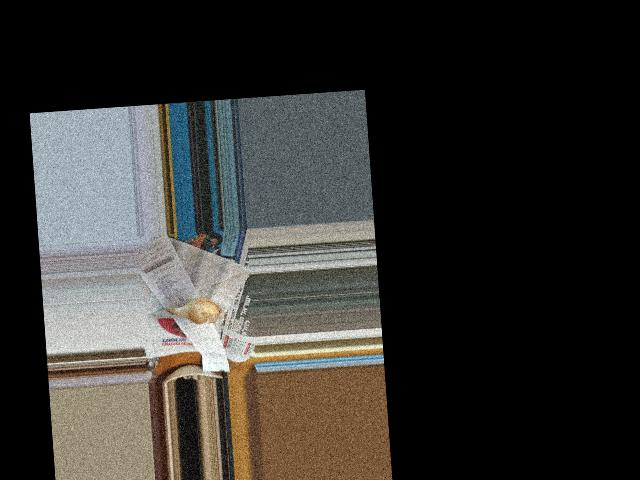onion: (180, 294, 218, 325)
